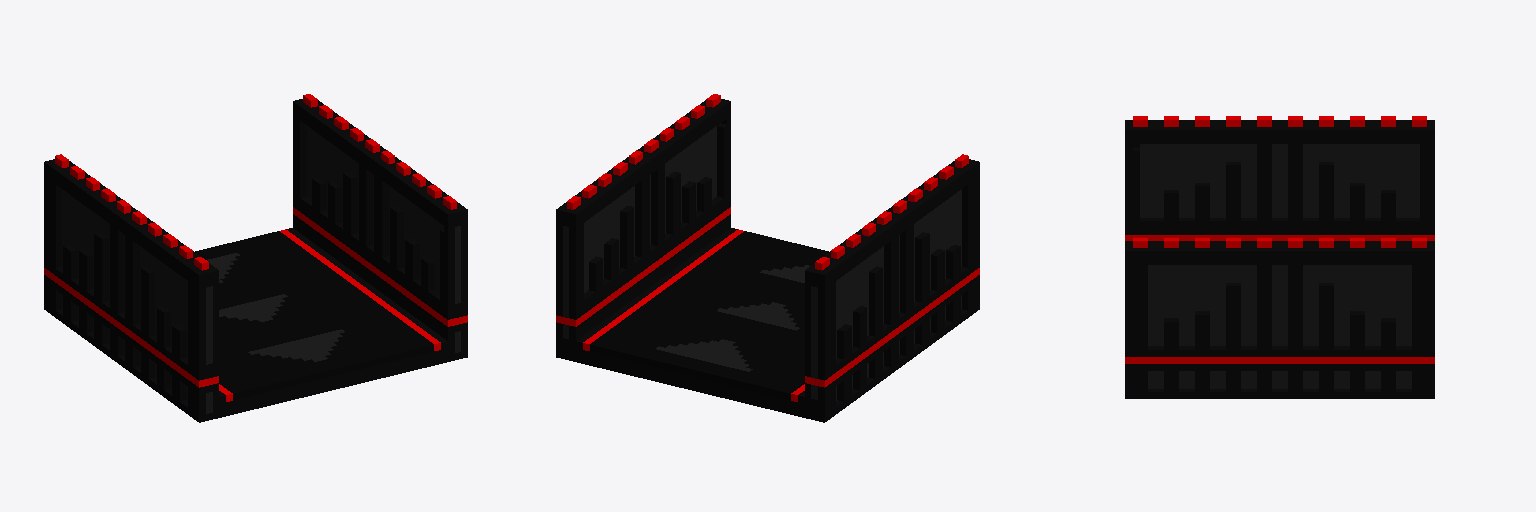
The picture shows the model from 3 angles: view 1: azimuth 30°, elevation 25°; view 2: azimuth 150°, elevation 25°; view 3: azimuth 270°, elevation 25°; orthographic projection.
Visible parts, largest first — view 1: object 1; view 2: object 1; view 3: object 1.
Boxes of the visible parts, <box> form: object 1: <box>44,94,467,422</box>; object 1: <box>556,94,979,422</box>; object 1: <box>1125,116,1434,398</box>.
Size of the model in its own units: 4 by 2.2 by 4.
1 materials, 1 textured.